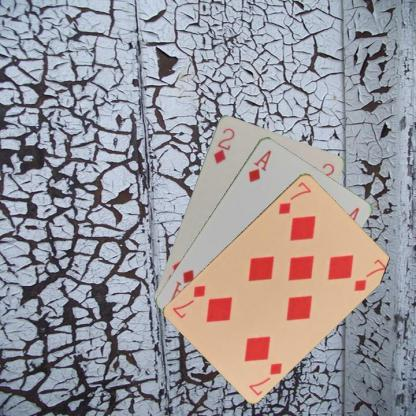2d: (210, 124, 236, 164)
7d: (246, 359, 284, 397), (276, 178, 312, 216)
Ad: (245, 147, 272, 183)
